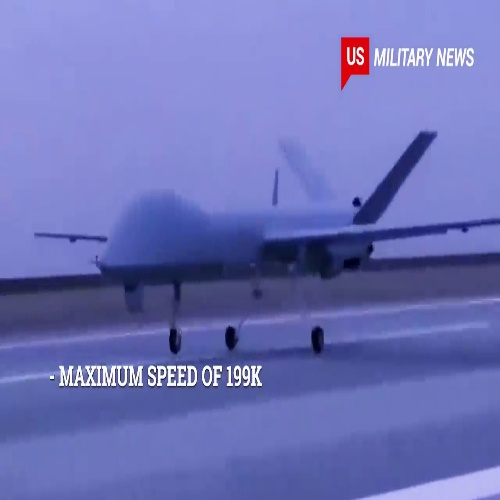uav: (30, 129, 500, 357)
